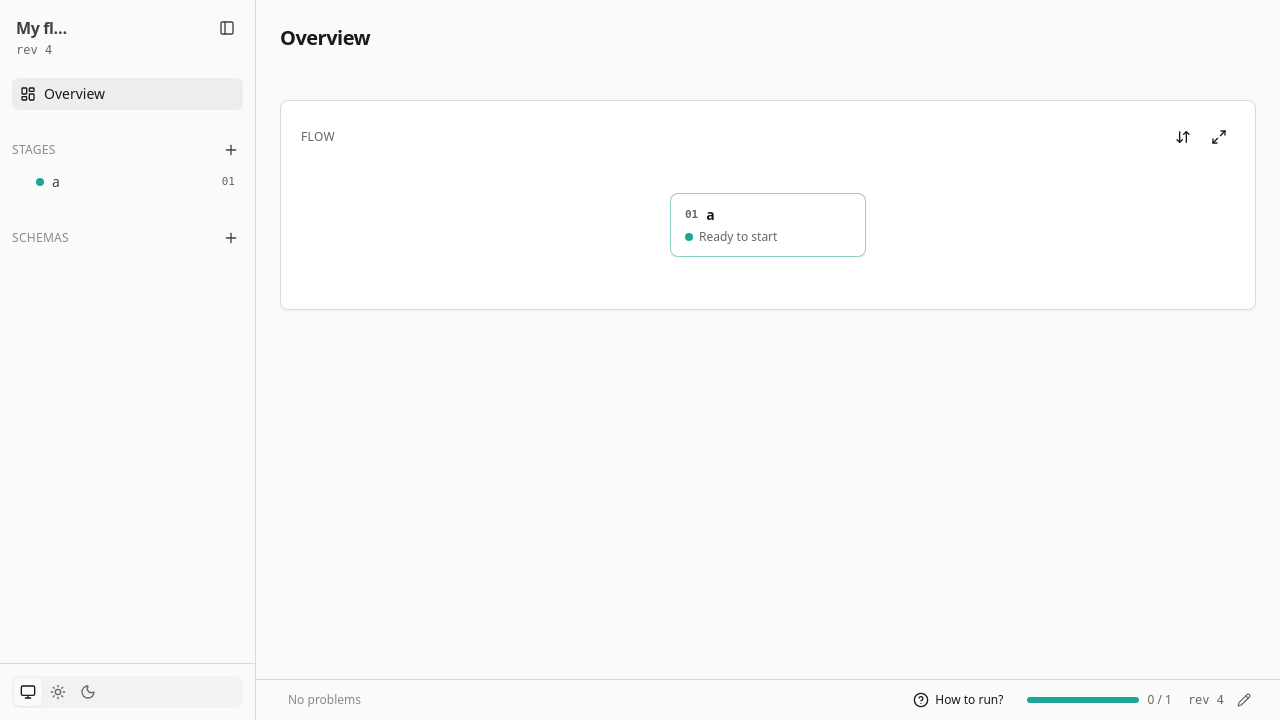
Test: run dialog › a_new_flow_gets_a_default_file_name
Click the button "How to run?": (958, 700) [905,686,1012,714]
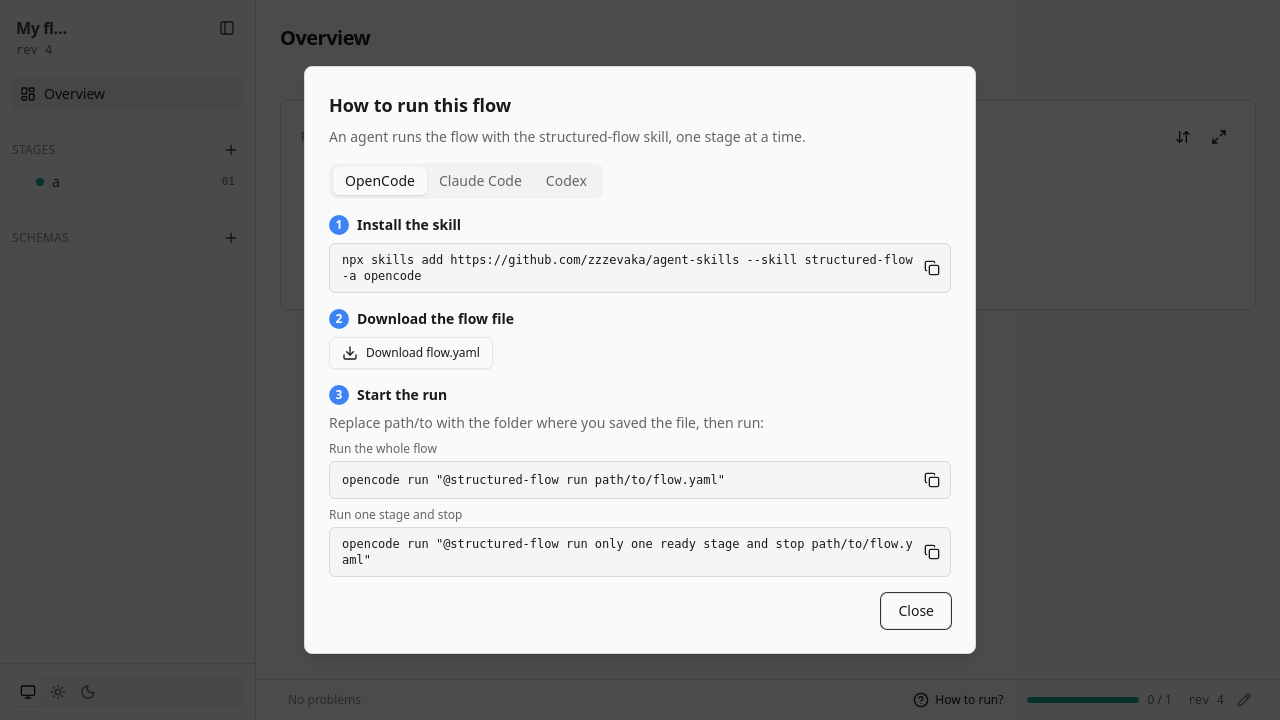
Check: the button "Download flow.yaml" is shown, box [329,337,493,369]
